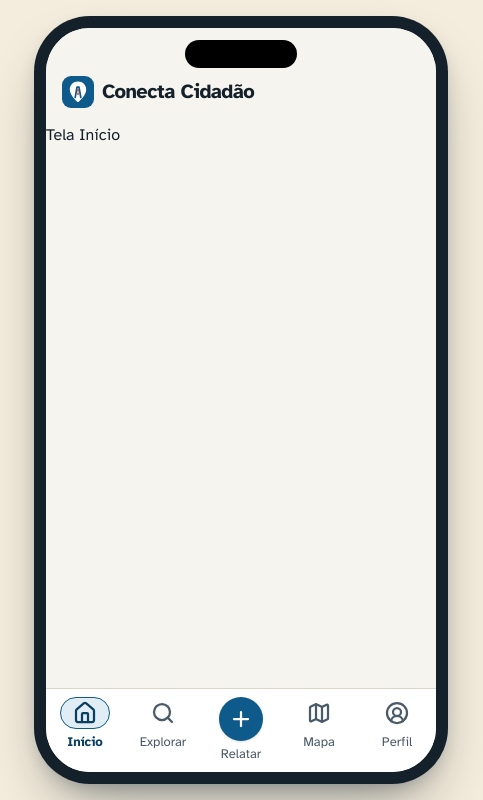
Test: AppShell + navegação › o "+" leva para Relatar um problema
Click the link with aria-label "Relatar um problema" at [241, 729], box [219,696,263,762]
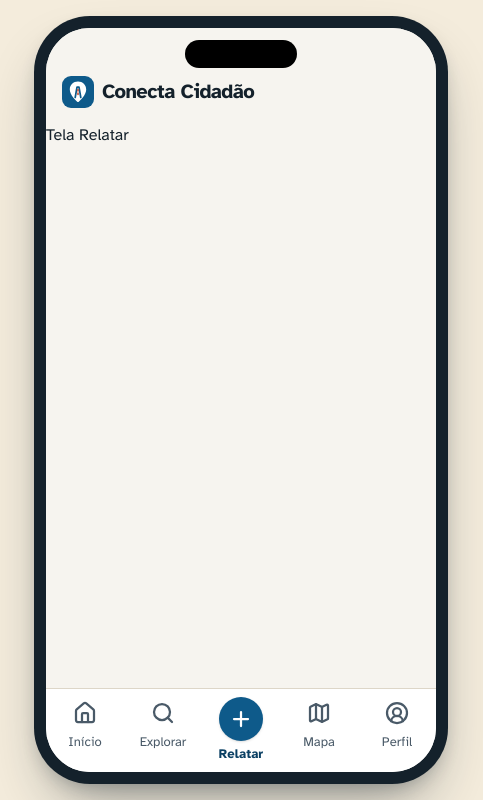
Expected: the text "Tela Relatar" is shown, [46,125,129,145]
